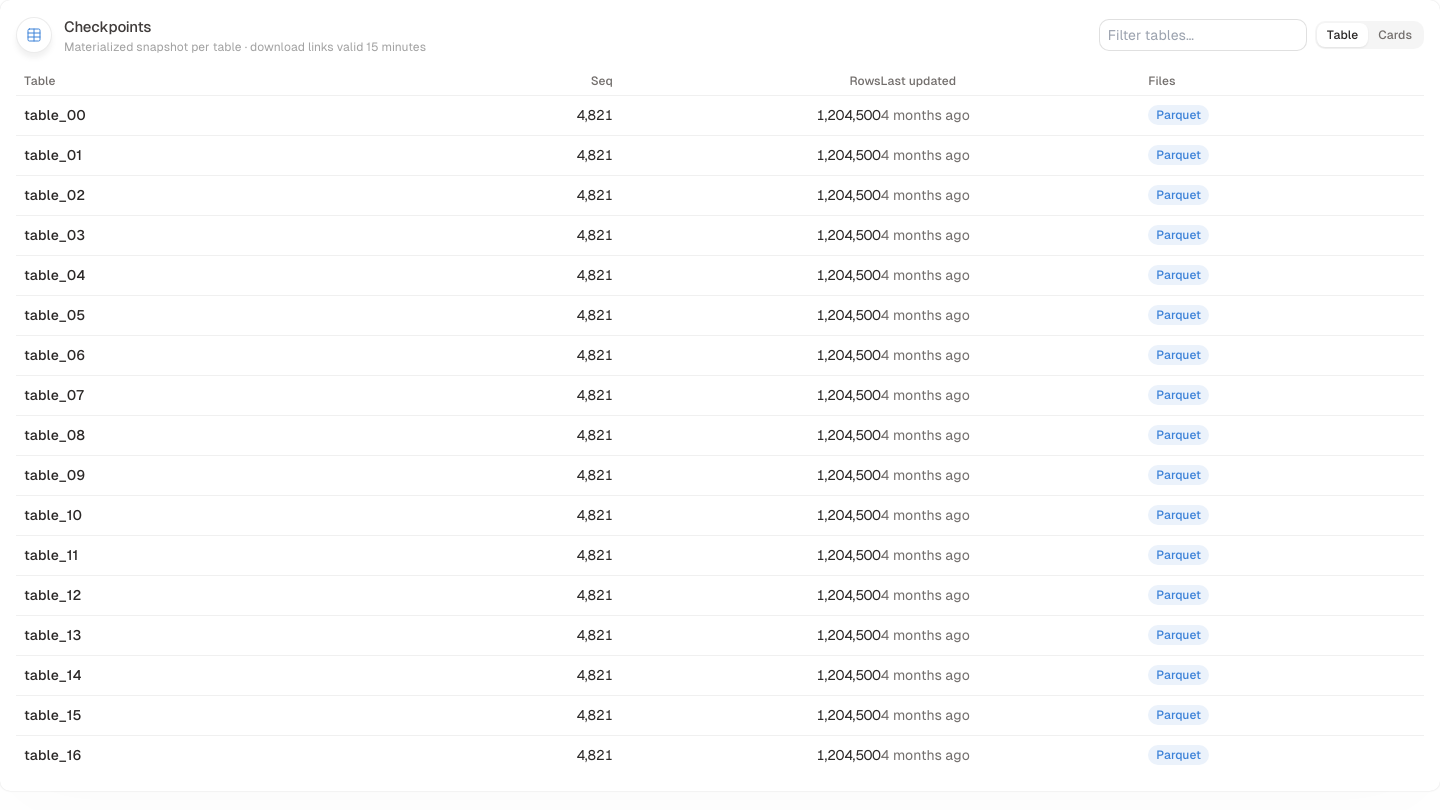
Test: CheckpointsCard (F7) › shows a client-side name filter beyond 15 tables and filters rows
Type "table_07" into the field labelled "Filter tables" at (1203, 35), box [1099,19,1307,51]
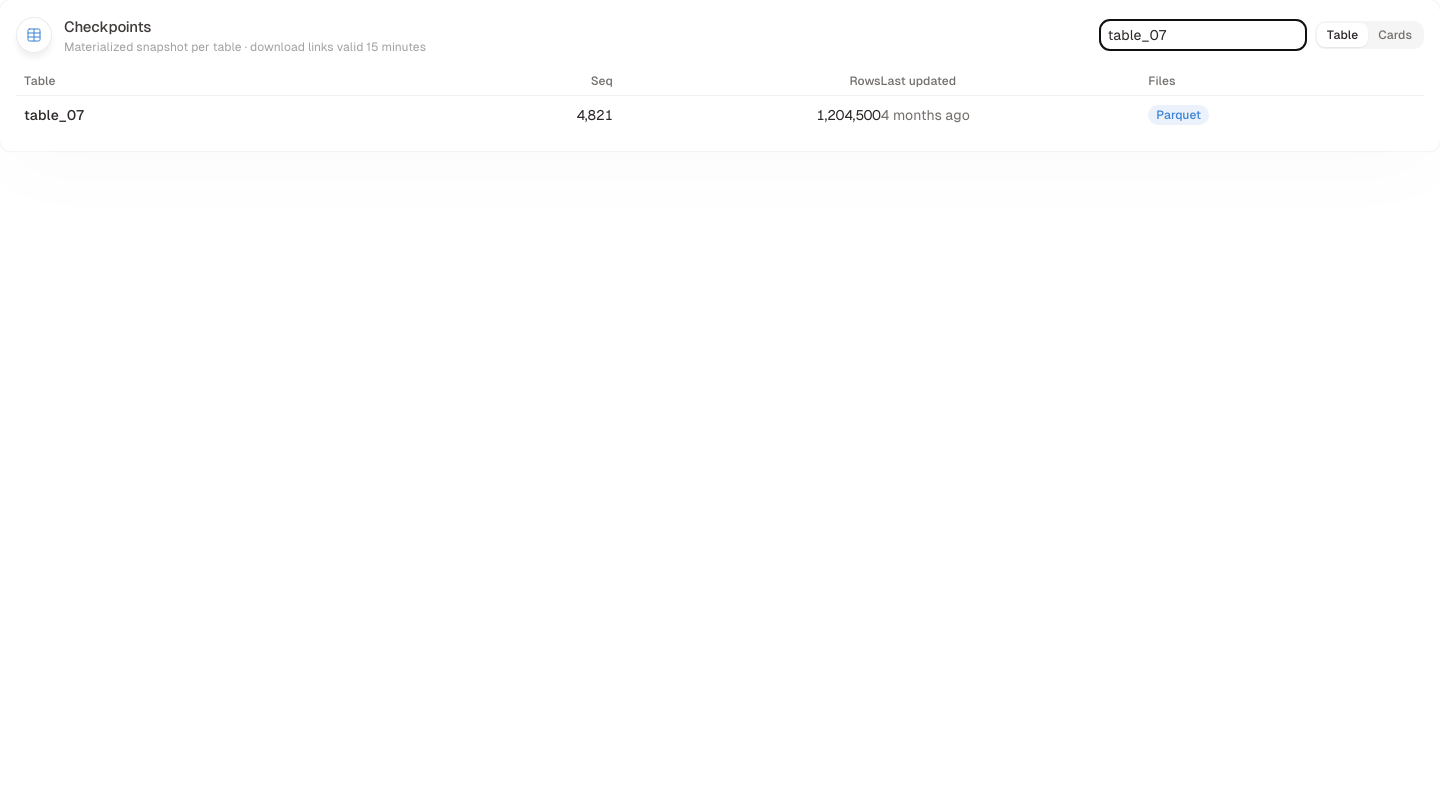
Expected: the element with test id "checkpoint-row-table_07" is shown, [16,94,1424,134]
Now the element with test id "checkpoint-row-table_08" is gone
